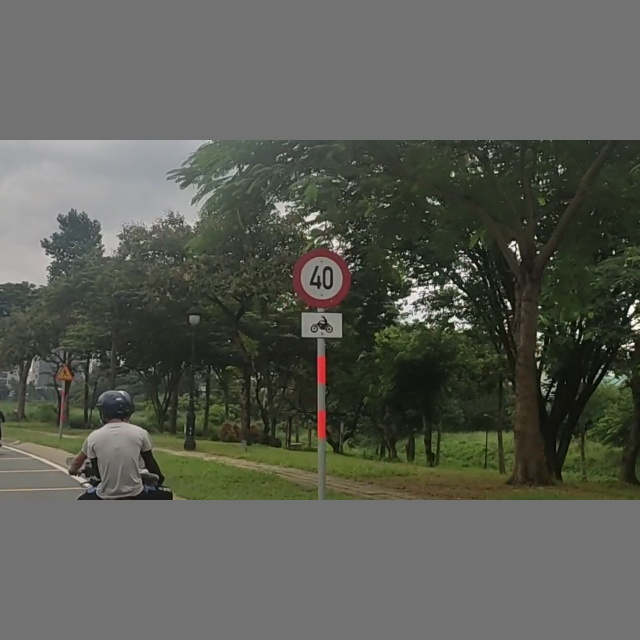P.127*40: (293, 247, 352, 309)
W.224: (57, 360, 72, 380)
